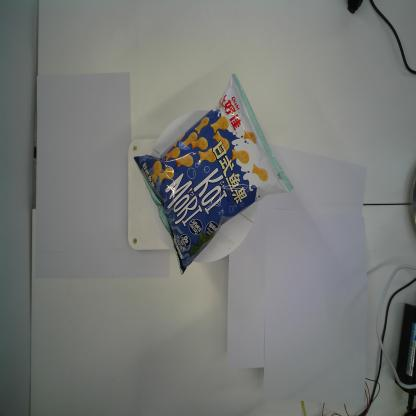Puffed Food: (133, 72, 294, 278)
